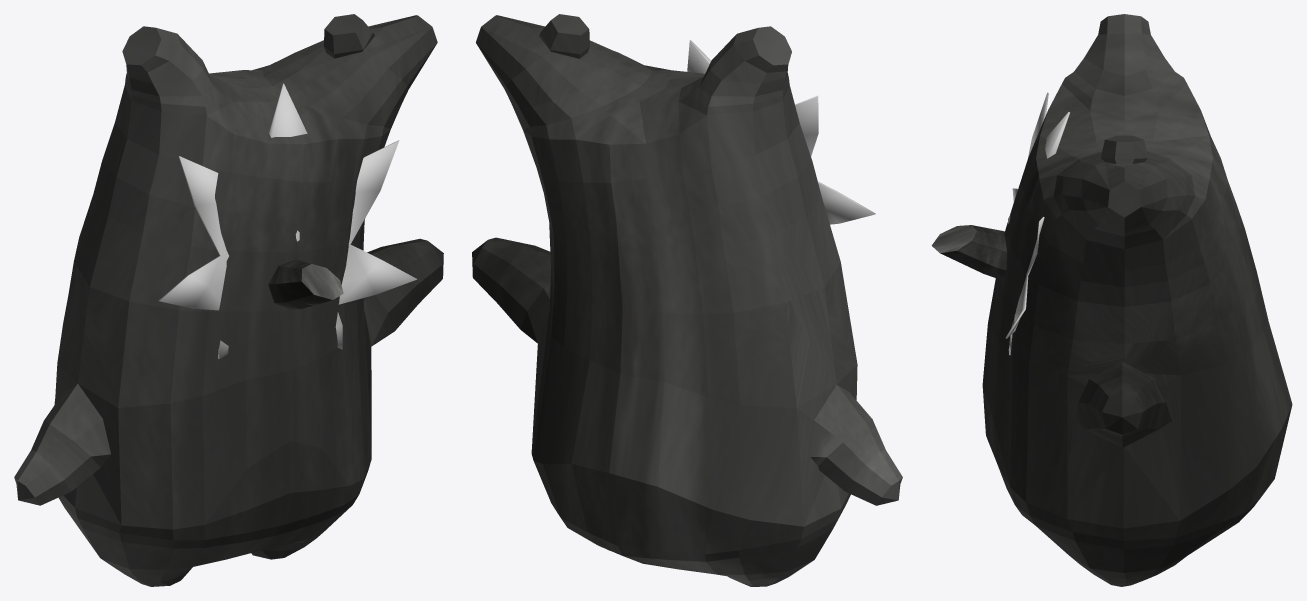
Rendered from frame_0053.obj.
The picture shows the model from 3 angles, left to right: view 1: azimuth 30°, elevation 25°; view 2: azimuth 150°, elevation 25°; view 3: azimuth 270°, elevation 25°; orthographic projection. The views are drawn at different scales.
Parts seen in each view (by area): view 1: korok, leaf, nose.003_柱体.011; view 2: korok, leaf; view 3: korok, nose.003_柱体.011, leaf.
Part boxes in pixels (x1,y1,x2,y2): korok: (14, 14, 443, 586); leaf: (158, 83, 417, 359); nose.003_柱体.011: (268, 259, 343, 309); korok: (472, 14, 902, 586); leaf: (687, 40, 875, 224); korok: (982, 14, 1292, 586); nose.003_柱体.011: (931, 225, 1007, 279); leaf: (1005, 92, 1069, 355).
Bounding box in the file's own units: 1.72 × 2.15 × 1.36.
